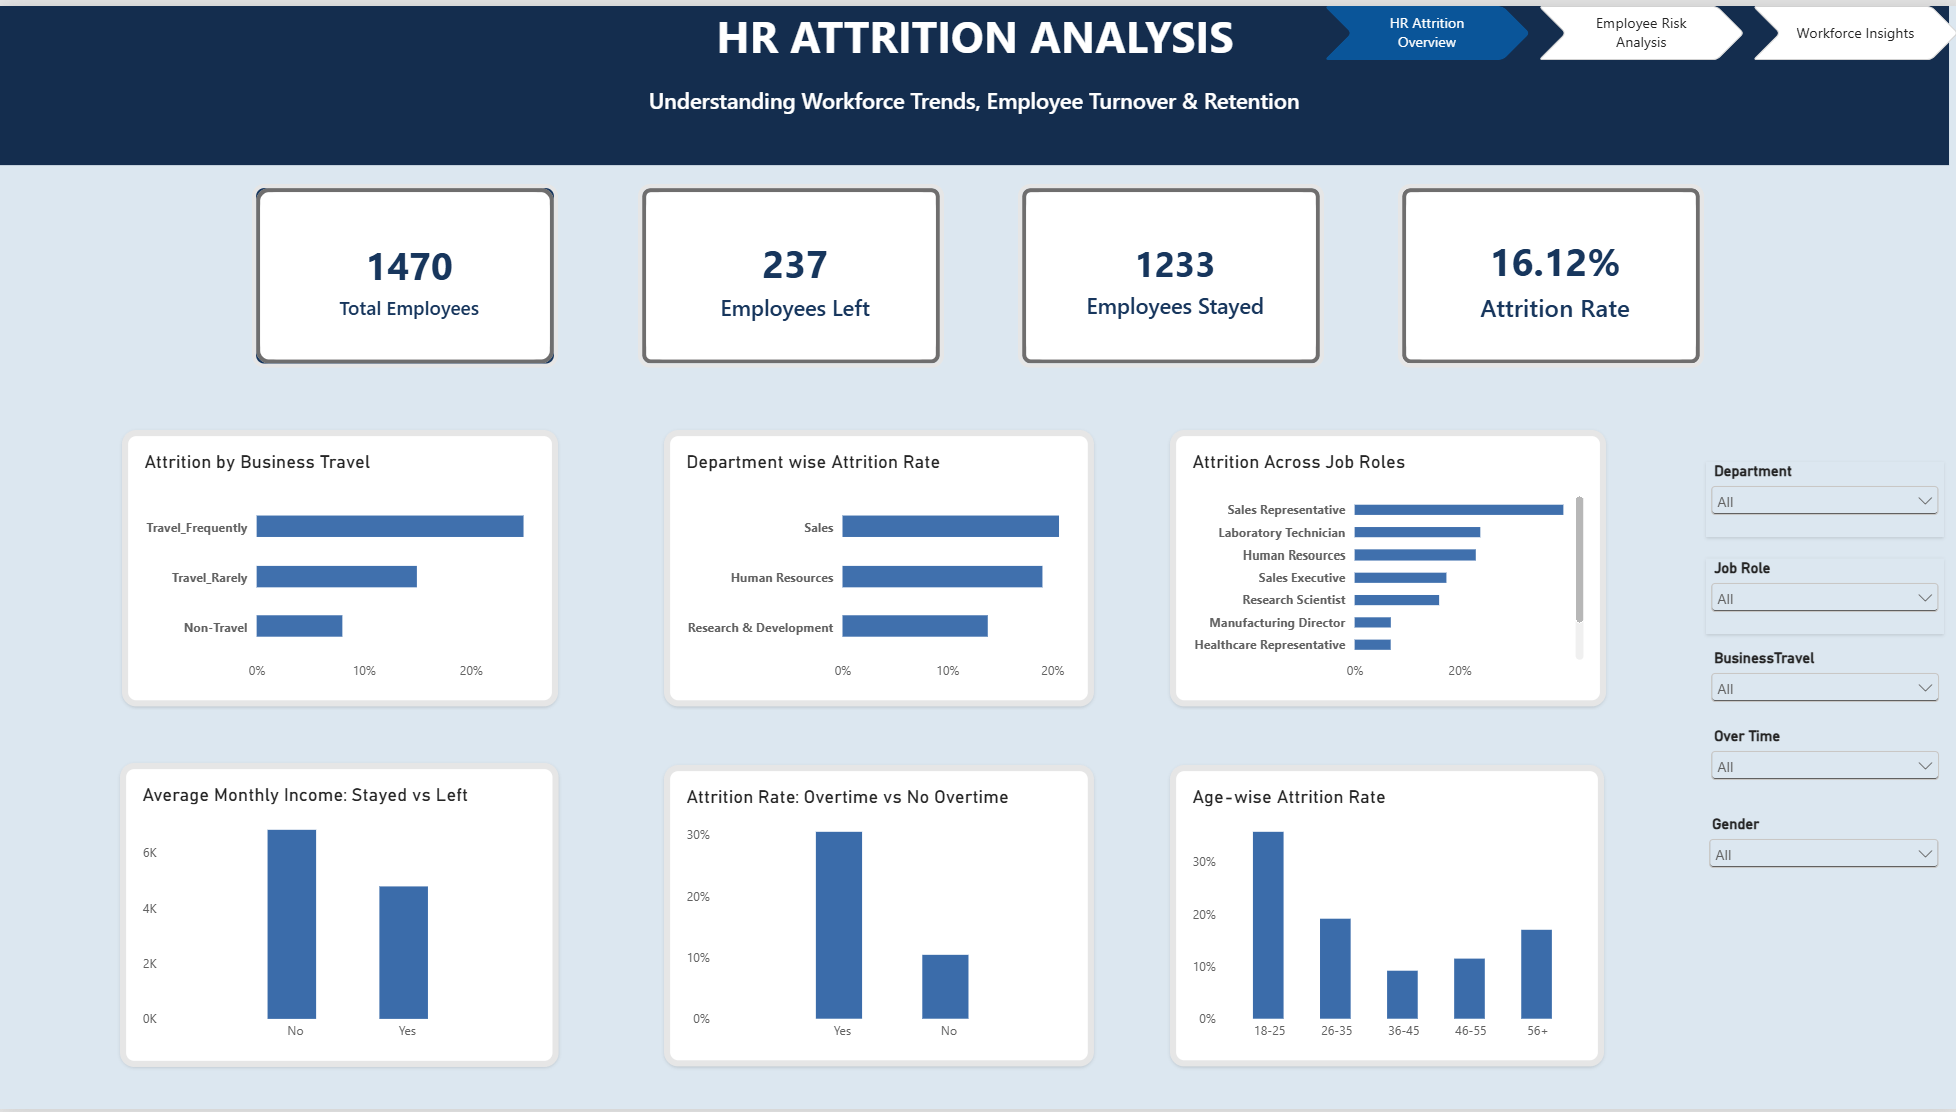

This screenshot's page, from the dashboard's own definition file:
{"tool":"powerbi","page":{"name":"HR Attrition Overview","canvas":[1920,1080],"ordinal":0},"visuals":[{"type":"cardVisual","fields":{"Data":["Employees.Total Employees"]},"box":[247.6,173.8,300,180],"z":0},{"type":"cardVisual","fields":{"Data":["Employees.Employees Left"]},"box":[626.2,173.8,300,180],"z":1000},{"type":"cardVisual","fields":{"Data":["Employees.Employees Stayed"]},"box":[997.6,173.8,300,180],"z":2000},{"type":"cardVisual","fields":{"Data":["Employees.Attrition Rate"]},"box":[1371.4,173.8,300,180],"z":3000},{"type":"shape","box":[0,0,1910.8,156.2],"z":4000},{"type":"textbox","box":[0,0,1912,156],"z":5000},{"type":"textbox","box":[0,77.5,1910,77.5],"z":6000},{"type":"clusteredBarChart","title":"\tAttrition by Business Travel","fields":{"Category":["Employees.BusinessTravel"],"Y":["Employees.Attrition Rate"]},"box":[119.1,414.9,427.7,270.2],"z":7000},{"type":"clusteredColumnChart","title":"\tAverage Monthly Income: Stayed vs Left","fields":{"Category":["Employees.Attrition"],"Y":["Avg(Employees.MonthlyIncome)"]},"box":[117,740.4,429.8,297.9],"z":8000},{"type":"slicer","fields":{"Values":["Employees.Department"]},"box":[1672.2,446.3,233,74],"z":9000},{"type":"slicer","fields":{"Values":["Employees.JobRole"]},"box":[1672.2,540.7,233,74],"z":10000},{"type":"slicer","fields":{"Values":["Employees.Gender"]},"box":[1670.4,792.6,235.2,74.1],"z":11000},{"type":"slicer","fields":{"Values":["Employees.BusinessTravel"]},"box":[1672.2,629.6,233.3,74.1],"z":12000},{"type":"slicer","fields":{"Values":["Employees.OverTime"]},"box":[1672.2,705.6,233.3,74.1],"z":13000},{"type":"pageNavigator","box":[1297.9,0,623.4,53.2],"z":14000},{"type":"clusteredBarChart","title":"Department wise Attrition Rate","fields":{"Category":["Employees.Department"],"Y":["Employees.Attrition Rate"]},"box":[651.1,414.9,421.3,270.2],"z":15000},{"type":"clusteredBarChart","title":"Attrition Across Job Roles","fields":{"Category":["Employees.JobRole"],"Y":["Employees.Attrition Rate"]},"box":[1146.8,414.9,427.7,270.2],"z":16000},{"type":"clusteredColumnChart","title":"Attrition Rate: Overtime vs No Overtime","fields":{"Category":["Employees.OverTime"],"Y":["Employees.Attrition Rate"]},"box":[651.1,742.6,421.3,295.7],"z":17000},{"type":"clusteredColumnChart","title":"\tAge-wise Attrition Rate","fields":{"Category":["Employees.Age Group"],"Y":["Employees.Attrition Rate"]},"box":[1146.8,742.6,425.5,295.7],"z":18000}]}

Visuals, with their boxes in screenshot pixels (x1, y1, x2, y2), scaled from the page's 1920x1080 canvas onto the 1956x1112 screenshot:
cardVisual - Employees.Total Employees: 252/179/558/364
cardVisual - Employees.Employees Left: 638/179/944/364
cardVisual - Employees.Employees Stayed: 1016/179/1322/364
cardVisual - Employees.Attrition Rate: 1397/179/1703/364
shape: 0/0/1947/161
textbox: 0/0/1948/161
textbox: 0/80/1946/160
"	Attrition by Business Travel" clusteredBarChart: 121/427/557/705
"	Average Monthly Income: Stayed vs Left" clusteredColumnChart: 119/762/557/1069
slicer - Employees.Department: 1704/460/1941/536
slicer - Employees.JobRole: 1704/557/1941/633
slicer - Employees.Gender: 1702/816/1941/892
slicer - Employees.BusinessTravel: 1704/648/1941/725
slicer - Employees.OverTime: 1704/727/1941/803
pageNavigator: 1322/0/1955/55
"Department wise Attrition Rate" clusteredBarChart: 663/427/1093/705
"Attrition Across Job Roles" clusteredBarChart: 1168/427/1604/705
"Attrition Rate: Overtime vs No Overtime" clusteredColumnChart: 663/765/1093/1069
"	Age-wise Attrition Rate" clusteredColumnChart: 1168/765/1602/1069
